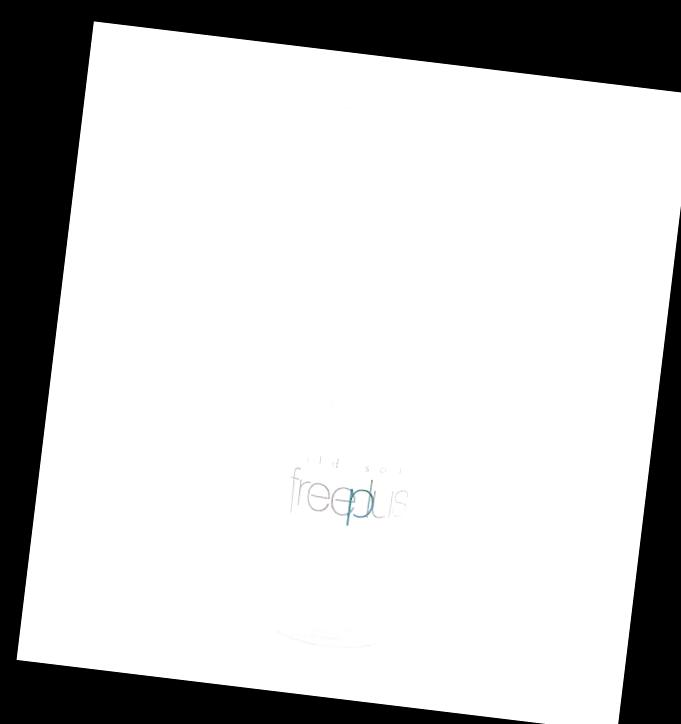cosmetic: (224, 81, 517, 663)
